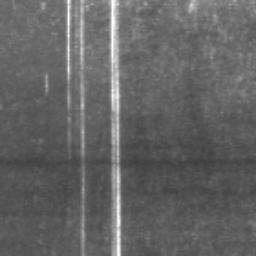Bright scratch: (111, 0, 121, 256), (80, 0, 85, 256), (67, 1, 71, 150), (45, 75, 49, 91)
